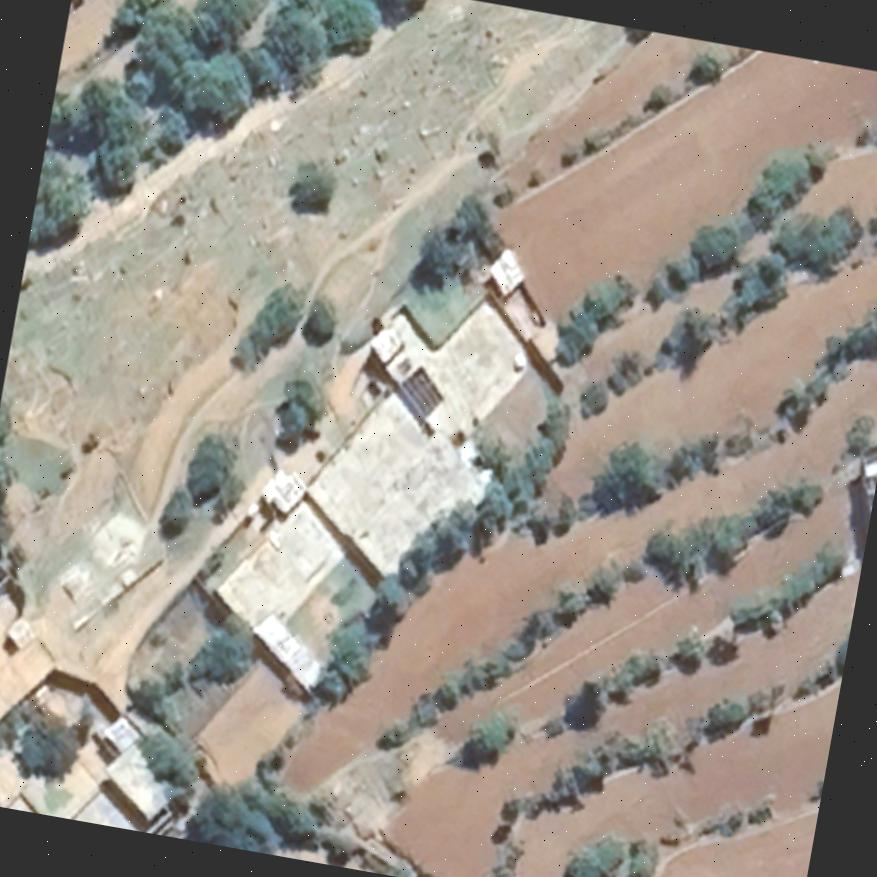Solarpanel: (395, 362, 447, 426)
